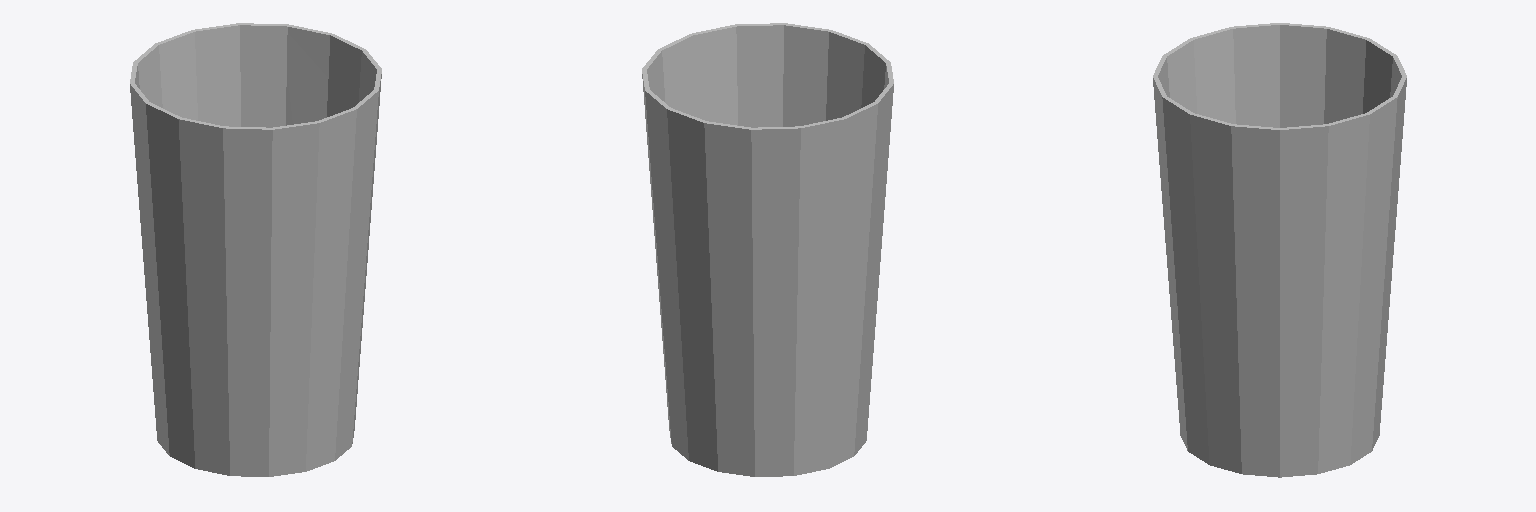
The model's file is glass_4.obj.
The picture shows the model from 3 angles: view 1: azimuth 30°, elevation 25°; view 2: azimuth 150°, elevation 25°; view 3: azimuth 270°, elevation 25°; orthographic projection.
Parts seen in each view (by area): view 1: glass_4; view 2: glass_4; view 3: glass_4.
Part boxes in pixels (bbox=[...]): glass_4: bbox=[130, 23, 381, 476]; glass_4: bbox=[642, 23, 893, 476]; glass_4: bbox=[1153, 23, 1406, 477].
Size of the model in its own units: 6.91 by 10.75 by 6.91.